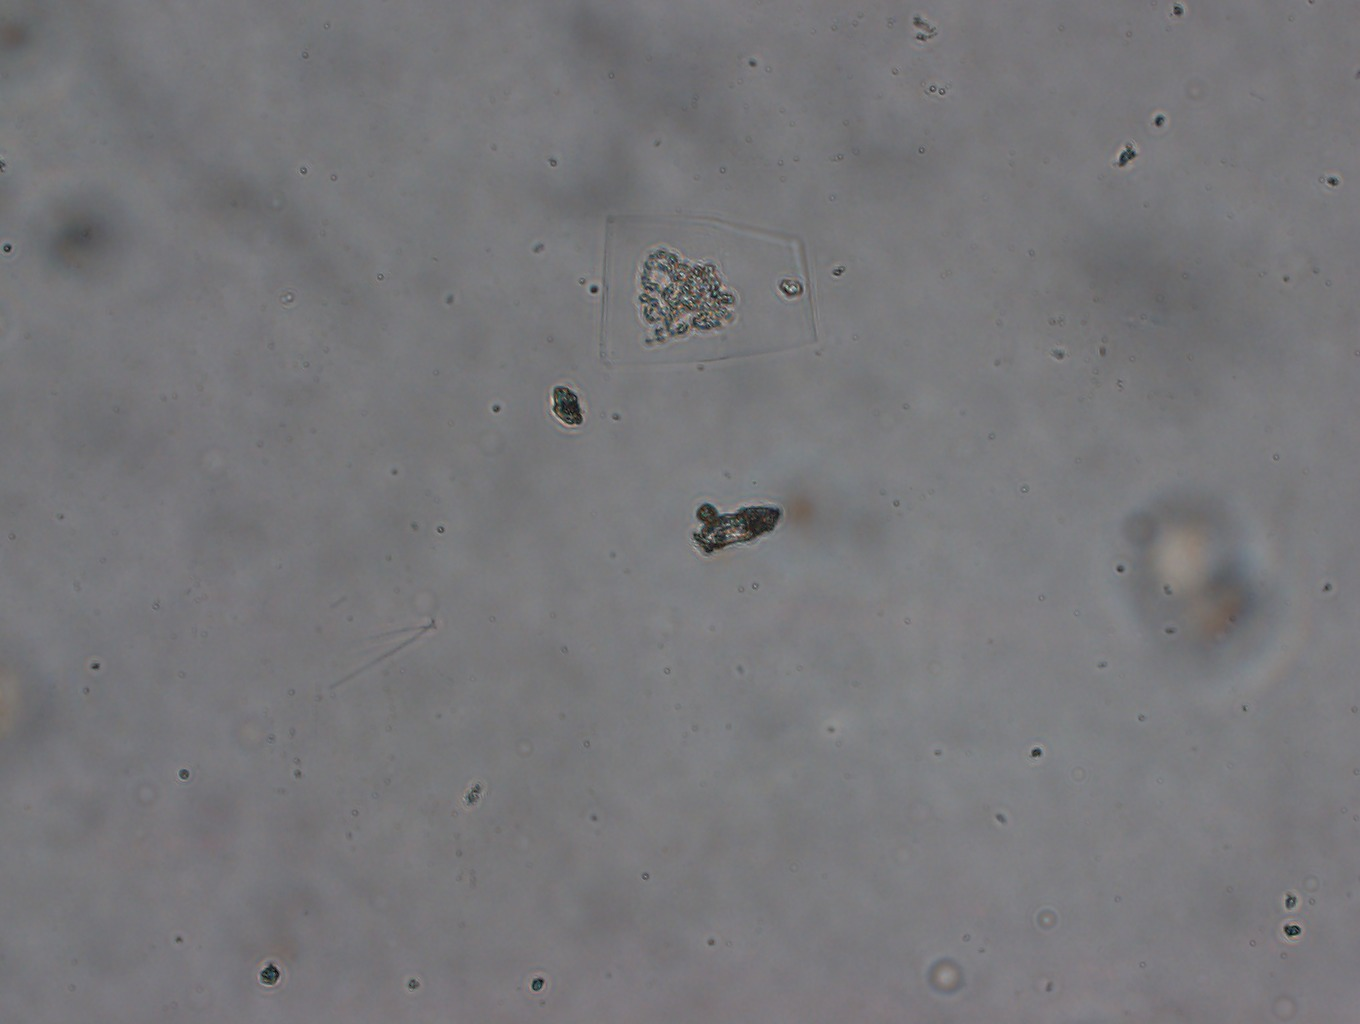helicotheca: (601, 209, 818, 369)
